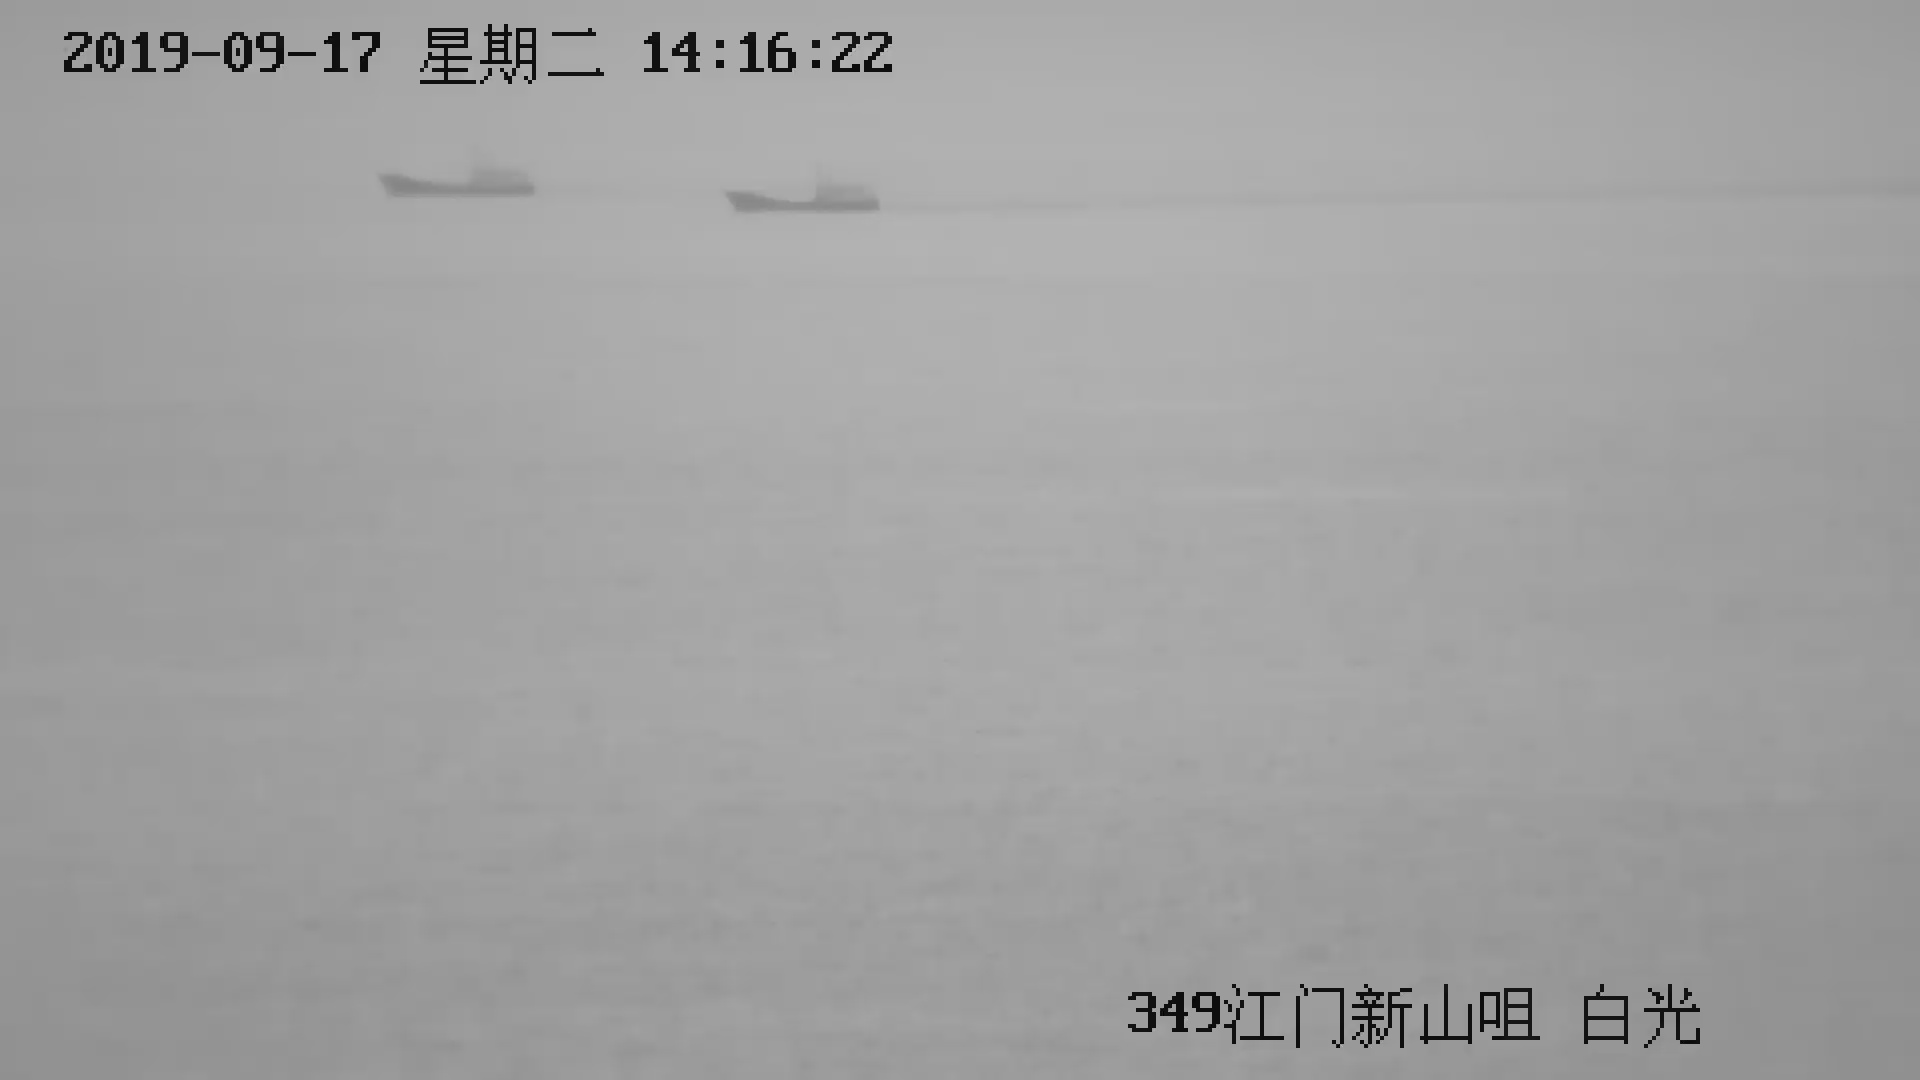ship: (380, 156, 530, 200), (724, 179, 876, 216)
